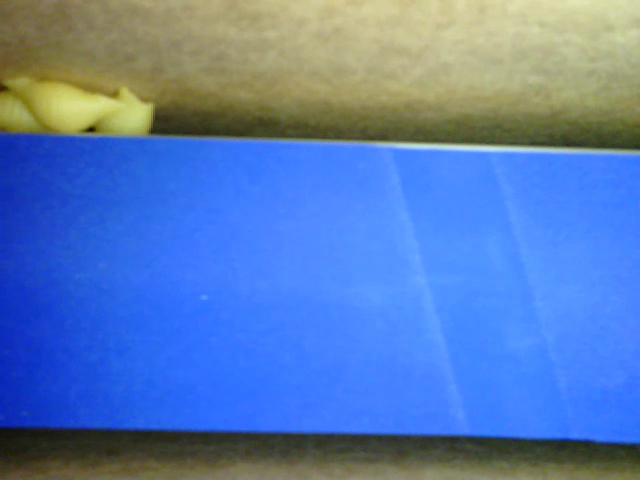shell: (1, 73, 131, 140), (93, 88, 157, 134), (1, 92, 58, 136)
